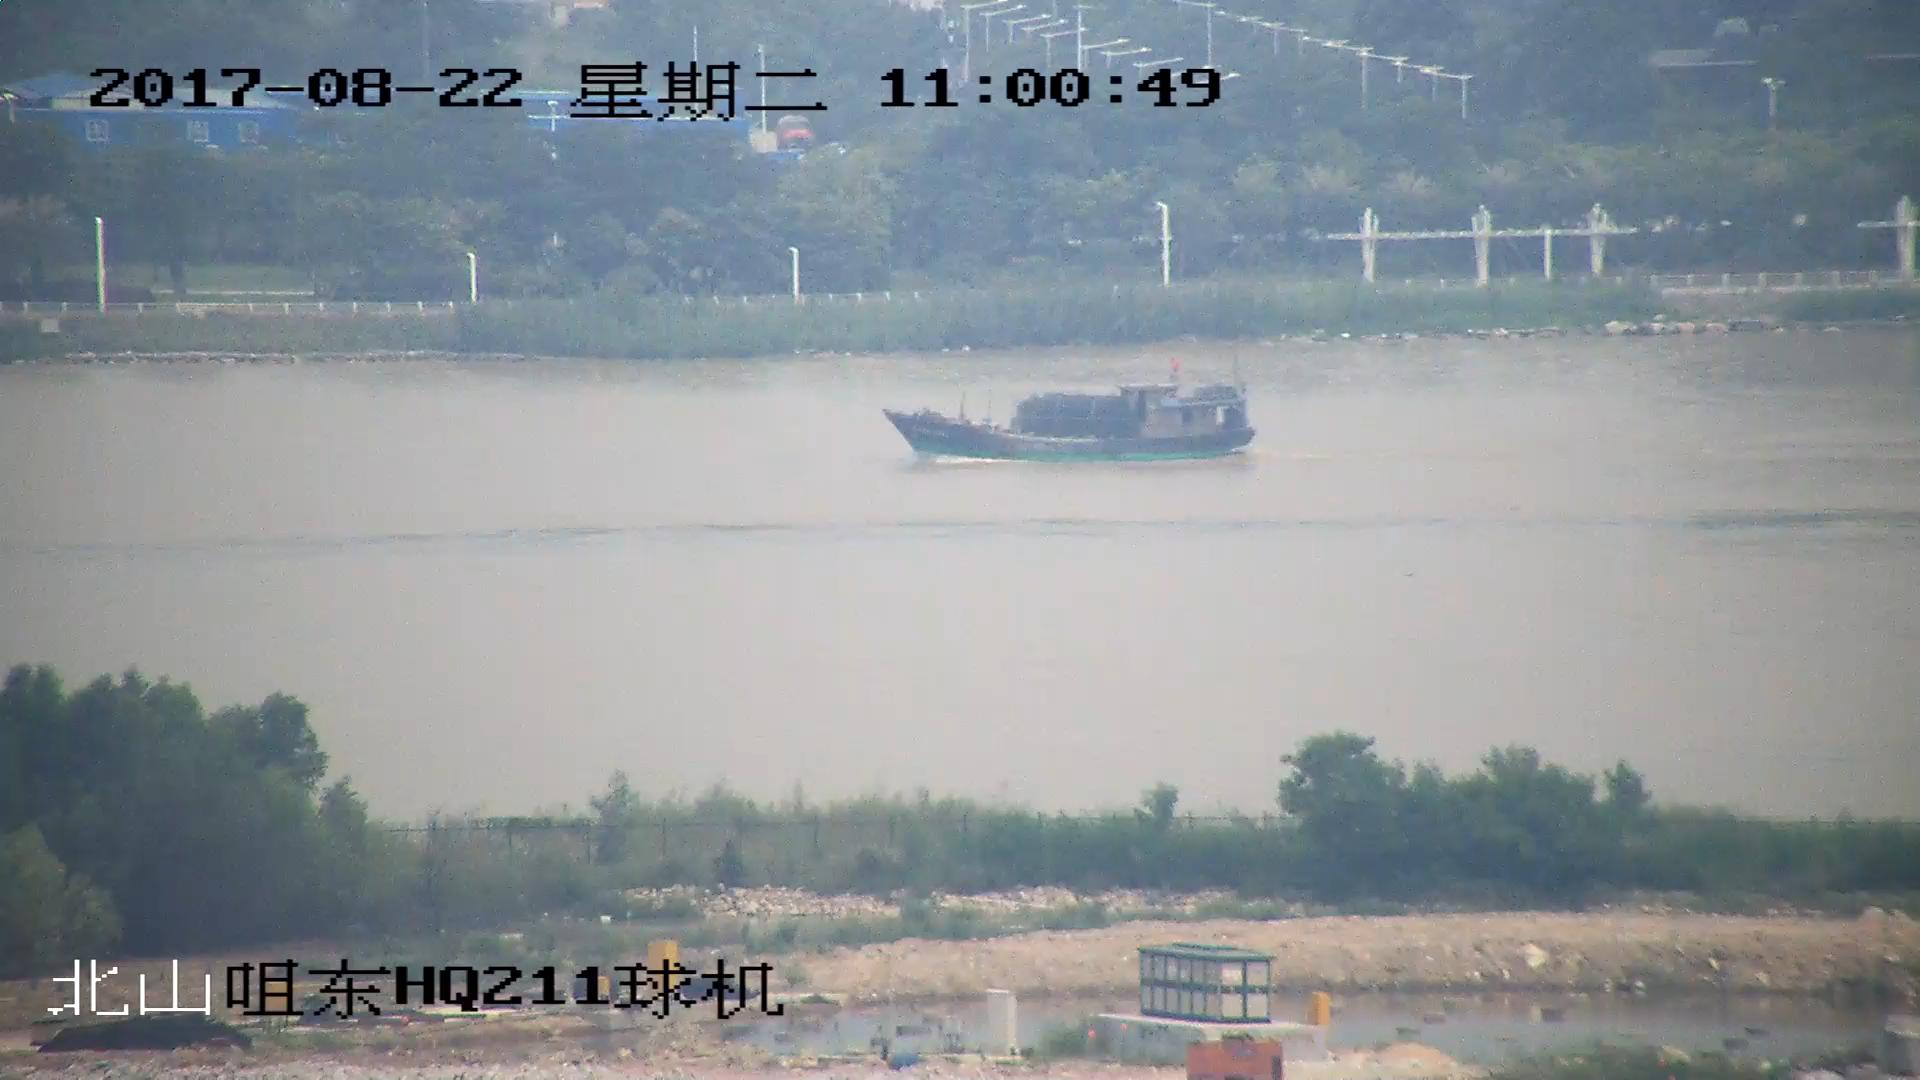fishing boat: (887, 374, 1256, 467)
